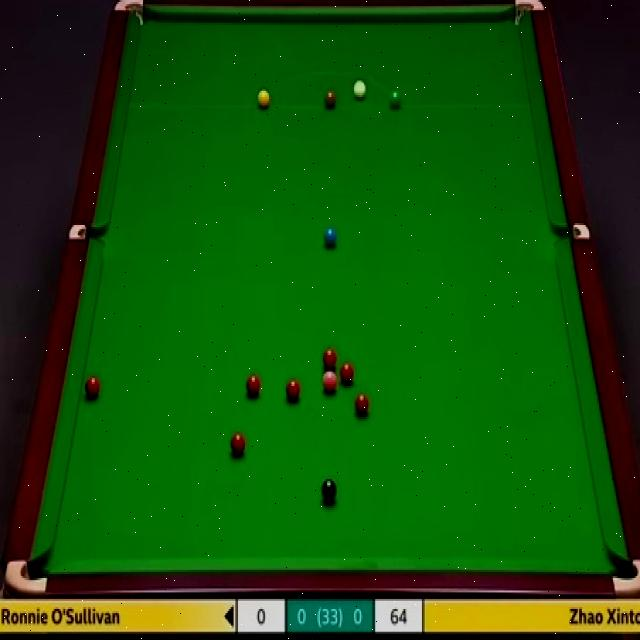black-ball: (321, 478, 337, 502)
blue-ball: (323, 228, 337, 246)
brown-ball: (324, 88, 336, 107)
green-ball: (388, 87, 403, 110)
pink-ball: (322, 370, 339, 395)
red-ball: (83, 376, 101, 399), (246, 372, 261, 399), (230, 431, 245, 457), (338, 361, 354, 385), (286, 378, 301, 402), (356, 393, 368, 420), (322, 348, 338, 368)
white-ball: (352, 80, 366, 98)
yellow-ball: (257, 88, 270, 110)
